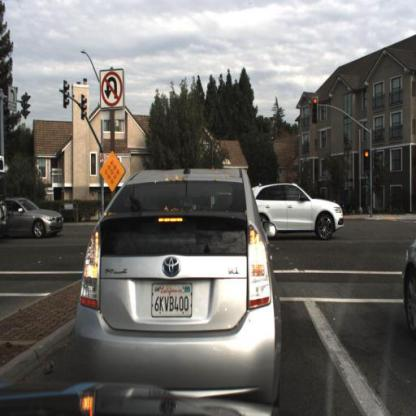car: (69, 156, 282, 398), (250, 170, 348, 238), (1, 197, 65, 241), (397, 215, 416, 352)
trafficLight-Red: (309, 91, 321, 127), (363, 148, 372, 175)
